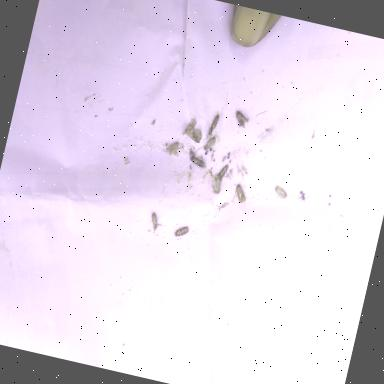pbw: (182, 118, 206, 144), (232, 181, 251, 208), (146, 212, 164, 238), (207, 112, 221, 140), (162, 140, 182, 158), (233, 110, 251, 130), (273, 185, 293, 202), (209, 175, 224, 196), (188, 156, 210, 170), (216, 163, 230, 183), (204, 134, 216, 152), (174, 225, 189, 239)
